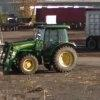Tractor: (5, 20, 76, 85)
